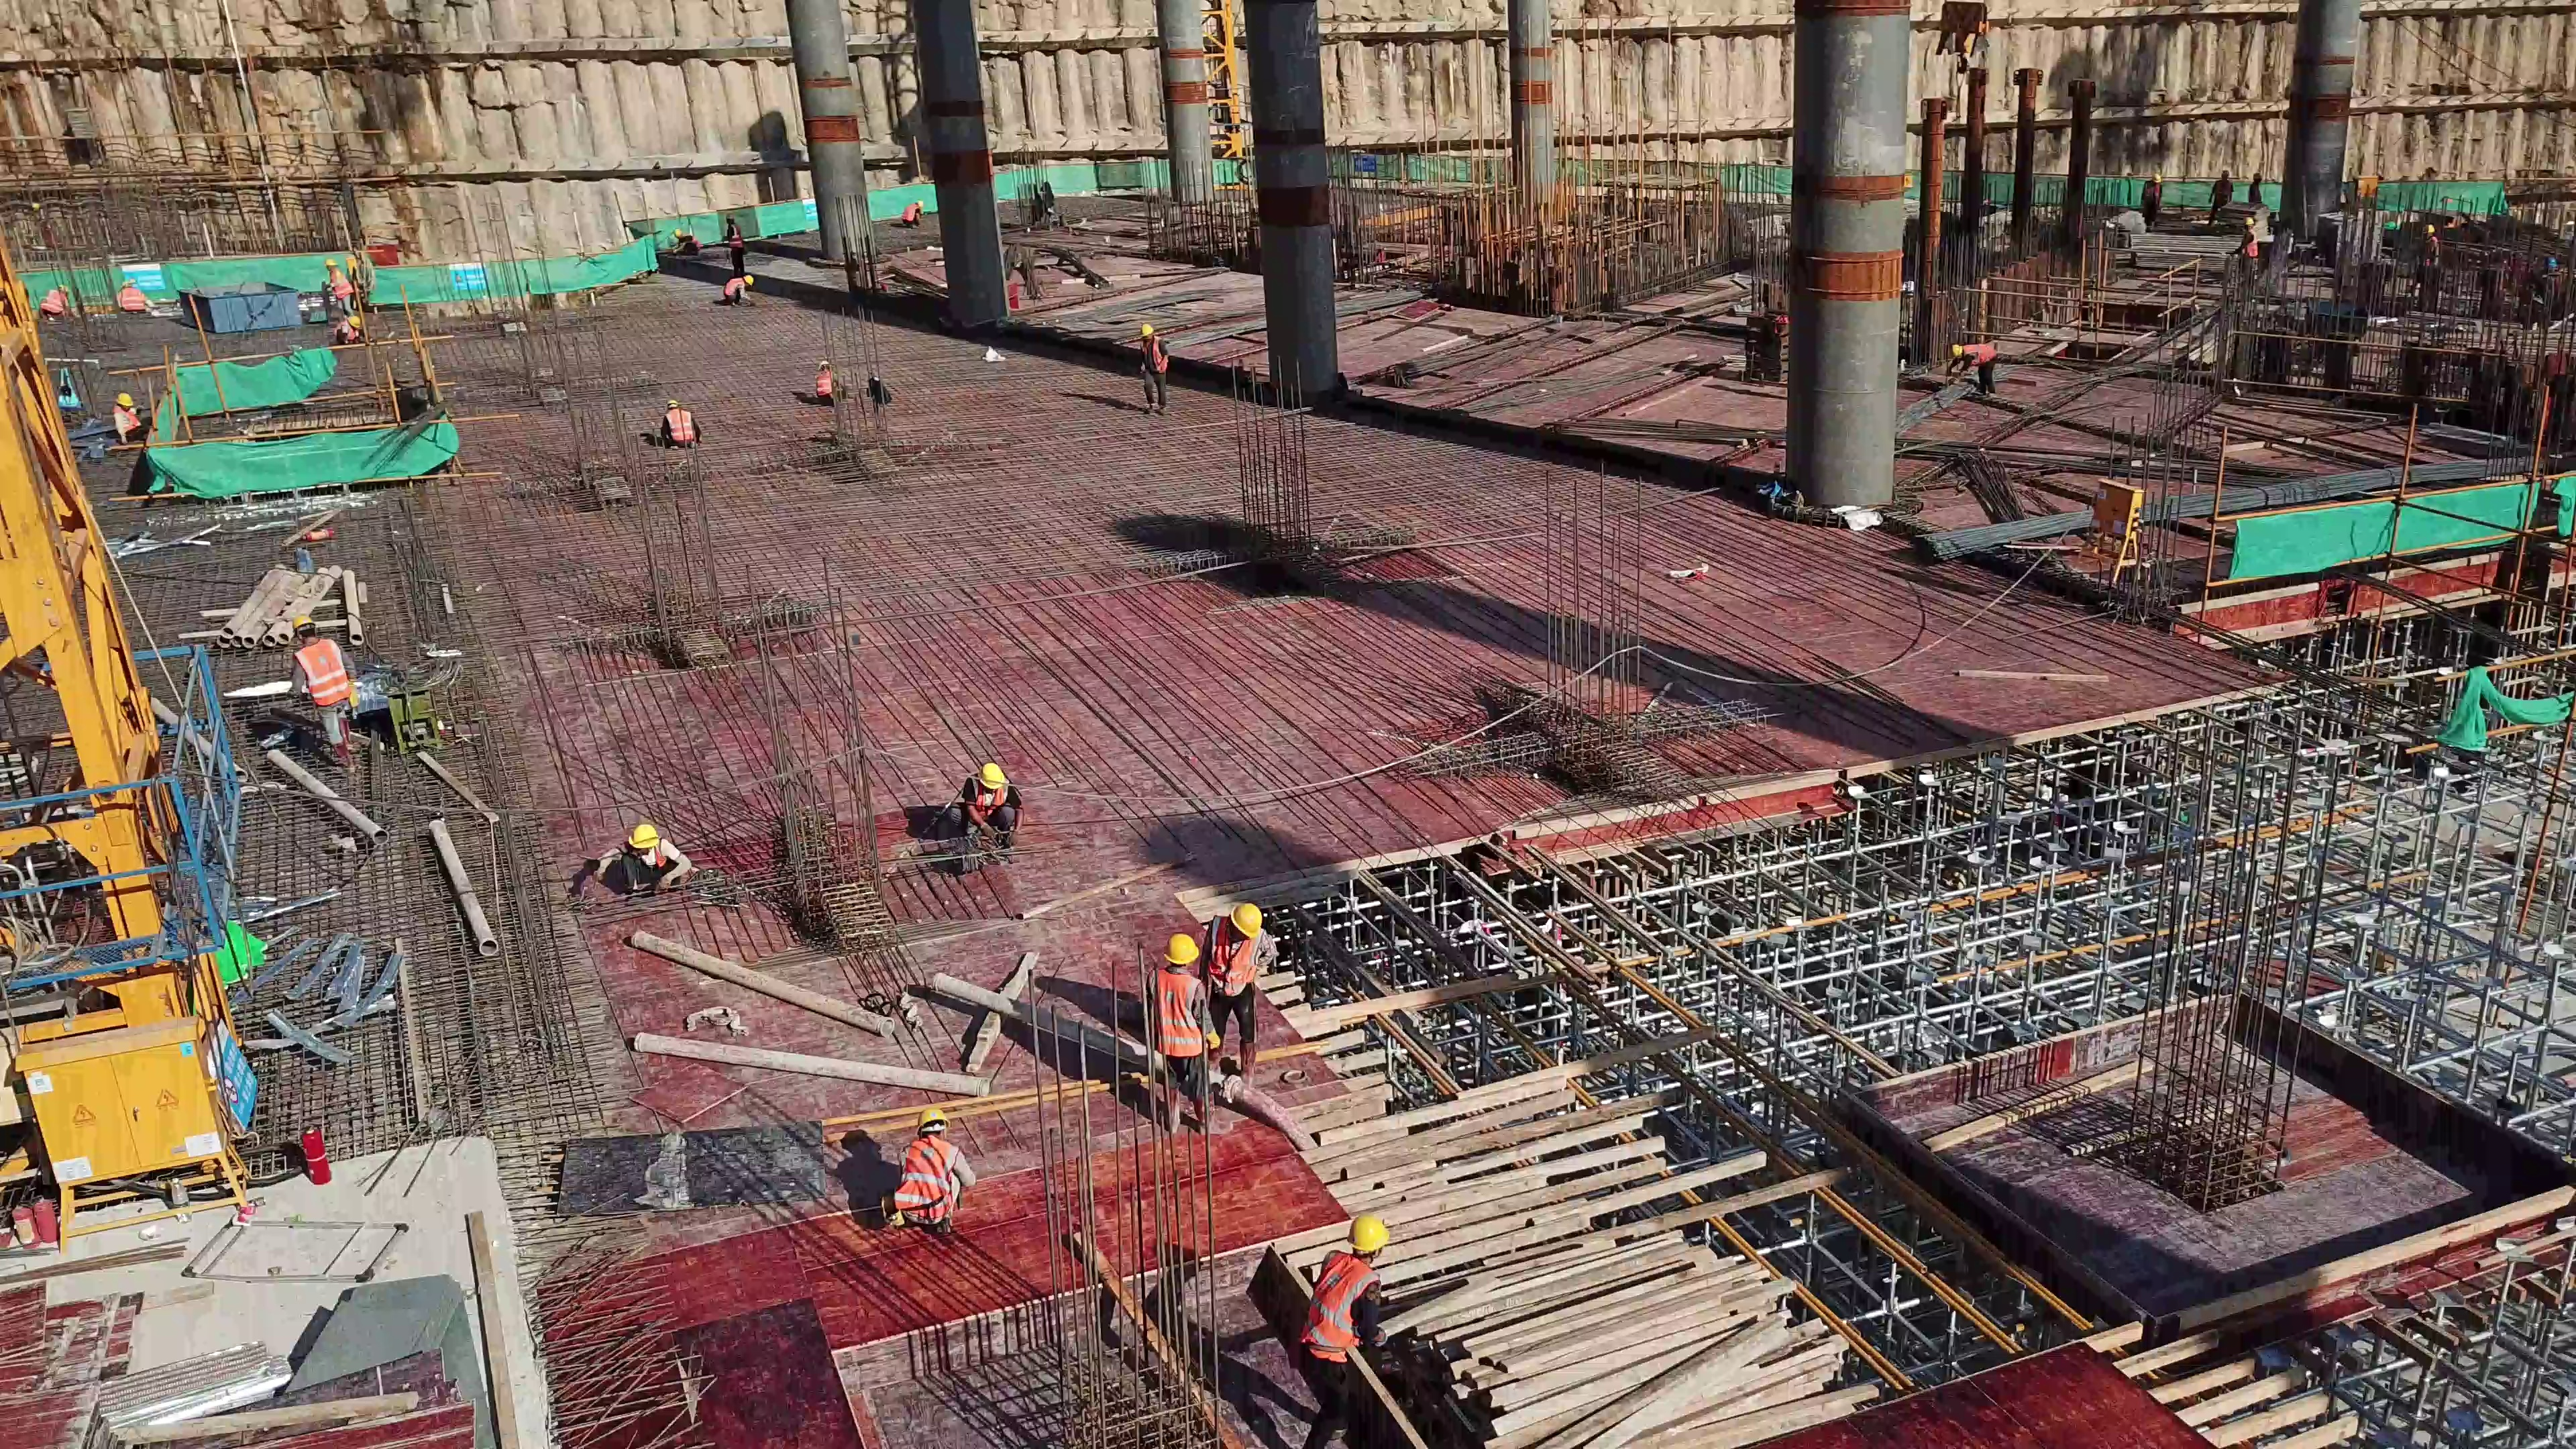ebox: (16, 1018, 257, 1237), (2086, 484, 2137, 582), (2355, 171, 2387, 197)
helmet: (1346, 1213, 1391, 1251), (1163, 930, 1201, 967), (1230, 901, 1262, 939), (914, 1106, 954, 1136), (628, 822, 661, 850), (977, 763, 1006, 792), (117, 391, 135, 408), (347, 312, 364, 329), (292, 616, 314, 629), (1140, 323, 1153, 335), (2544, 256, 2558, 268), (1951, 341, 1963, 358), (2243, 215, 2255, 226), (667, 397, 678, 409), (2422, 226, 2433, 235), (674, 227, 682, 239), (745, 274, 752, 286), (2153, 174, 2162, 180), (325, 260, 333, 267), (918, 200, 924, 205)
hook: (1938, 4, 1997, 80)
hopper: (174, 282, 311, 335)
person: (1288, 1213, 1395, 1449), (1143, 932, 1232, 1136), (1203, 900, 1270, 1090), (288, 614, 363, 769), (888, 1108, 976, 1236), (589, 822, 697, 902), (962, 762, 1026, 850), (1136, 323, 1174, 414), (1946, 342, 1997, 394), (662, 398, 702, 451), (112, 390, 147, 443), (720, 213, 746, 276), (324, 259, 353, 315), (2231, 216, 2253, 284), (2418, 224, 2440, 290), (38, 283, 72, 321), (2141, 172, 2163, 230), (2209, 169, 2231, 228), (115, 280, 153, 312), (718, 274, 755, 305), (814, 356, 839, 402), (335, 313, 362, 343), (674, 229, 700, 254), (902, 199, 921, 226), (2249, 169, 2263, 205)
rebar: (1927, 451, 2568, 568)
scaffold: (2317, 208, 2385, 270)
slogan: (201, 1036, 254, 1116), (119, 260, 165, 300), (450, 265, 486, 292), (799, 199, 812, 223)
vest: (1305, 1249, 1365, 1365), (1151, 964, 1202, 1065), (1210, 914, 1264, 1002), (297, 639, 357, 706), (898, 1140, 948, 1218), (969, 775, 1000, 818), (668, 407, 691, 441), (1142, 338, 1165, 372), (1962, 343, 1994, 364), (119, 286, 143, 311), (113, 405, 139, 428), (42, 288, 63, 313), (329, 271, 348, 295), (726, 225, 741, 248), (2243, 229, 2256, 257), (727, 276, 741, 297), (818, 370, 830, 394), (339, 319, 352, 339), (904, 203, 916, 222)
